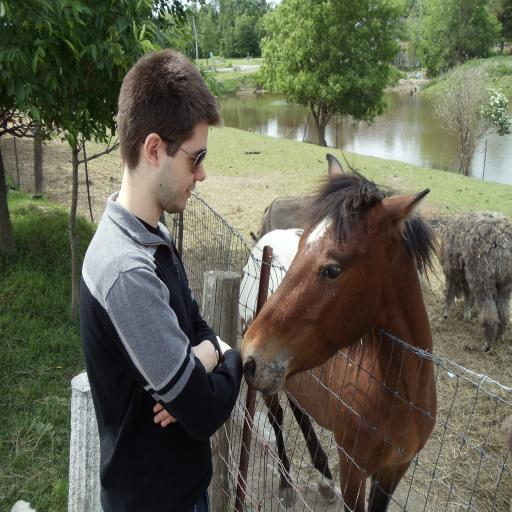horse: (237, 146, 445, 512)
